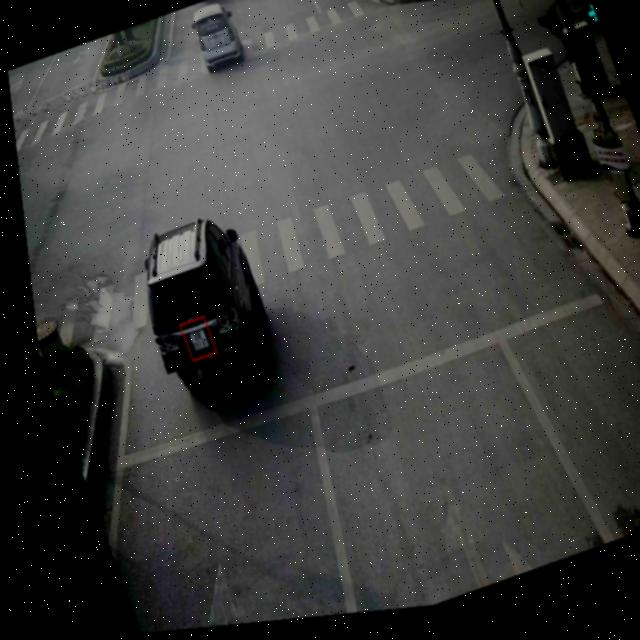Red: (523, 0, 577, 22)
